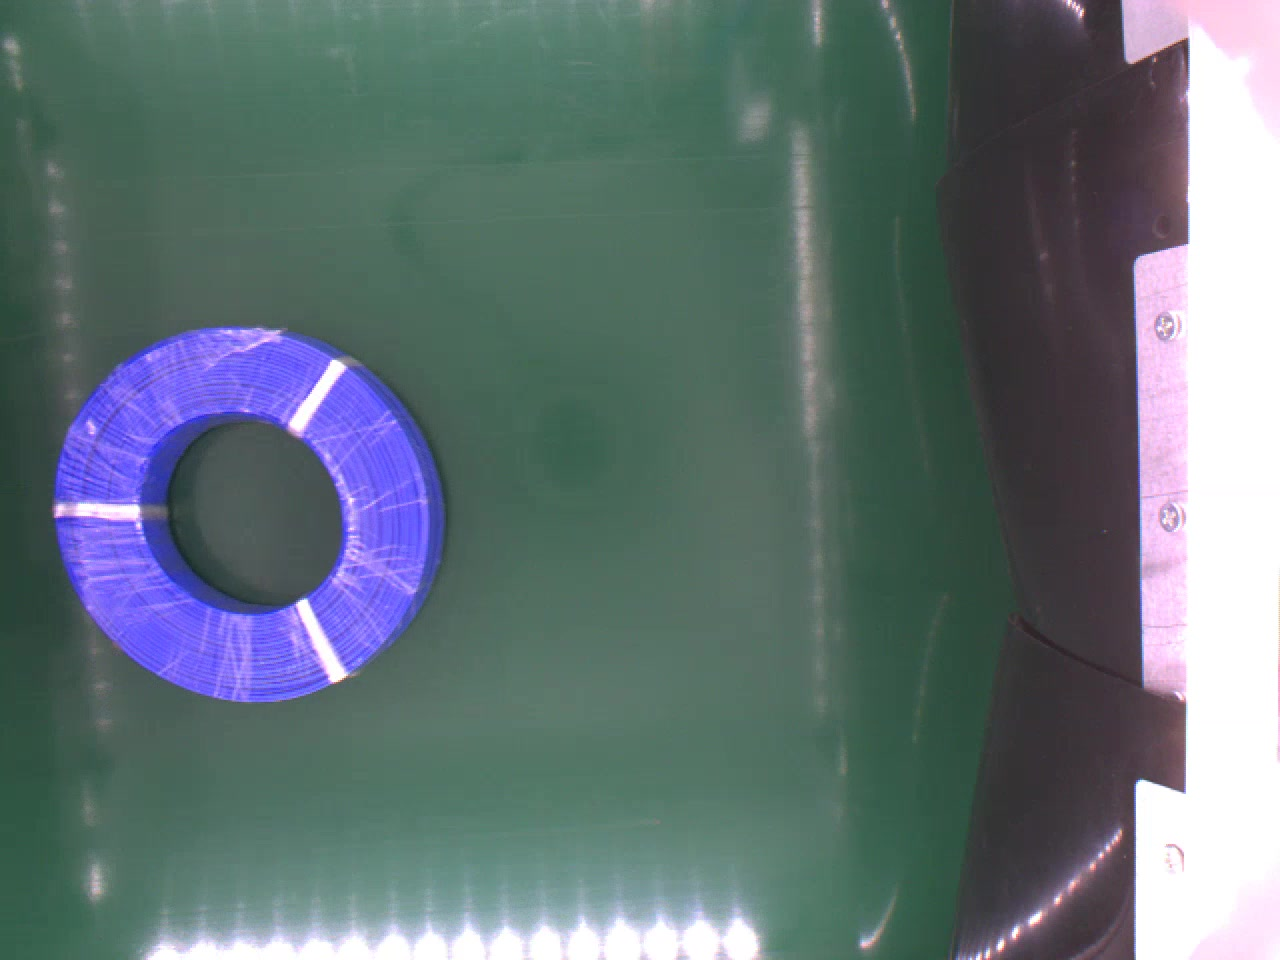blue: (56, 326, 438, 710)
